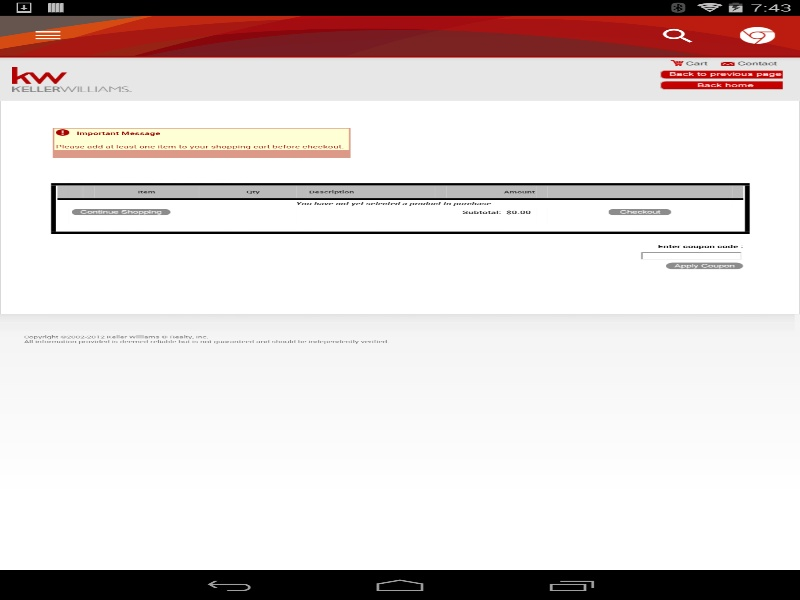Button: (10, 15, 85, 55), (71, 208, 171, 215), (665, 262, 744, 269), (608, 208, 672, 215)
Input: (640, 251, 742, 259)
